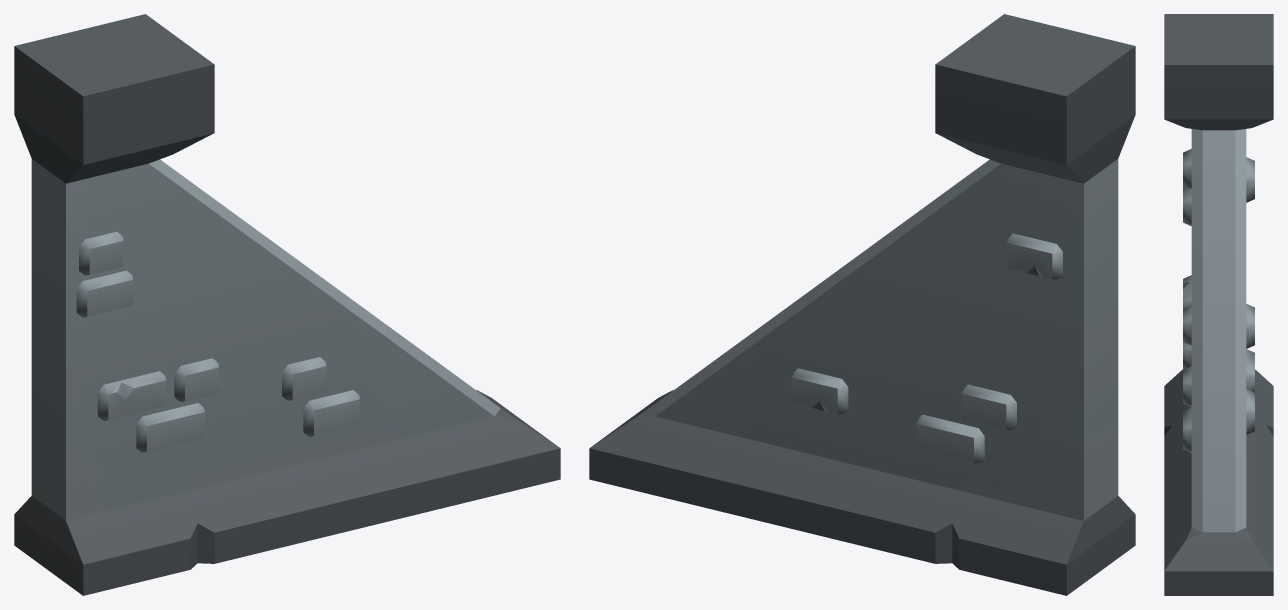
Rendered from kaykit-dungeon-remastered-wall-sloped-gltf.glb.
The picture shows the model from 3 angles, left to right: view 1: azimuth 30°, elevation 25°; view 2: azimuth 150°, elevation 25°; view 3: azimuth 270°, elevation 25°; orthographic projection. The views are drawn at different scales.
Parts seen in each view (by area): view 1: wall_sloped; view 2: wall_sloped; view 3: wall_sloped.
Boxes of the visible parts, box(x1,y1,x2,y2) form: wall_sloped: box(14, 14, 560, 595); wall_sloped: box(589, 14, 1135, 595); wall_sloped: box(1164, 14, 1273, 595).
Size of the model in its own units: 4 by 4 by 1.
Materials: 1 (1 with a texture image).
